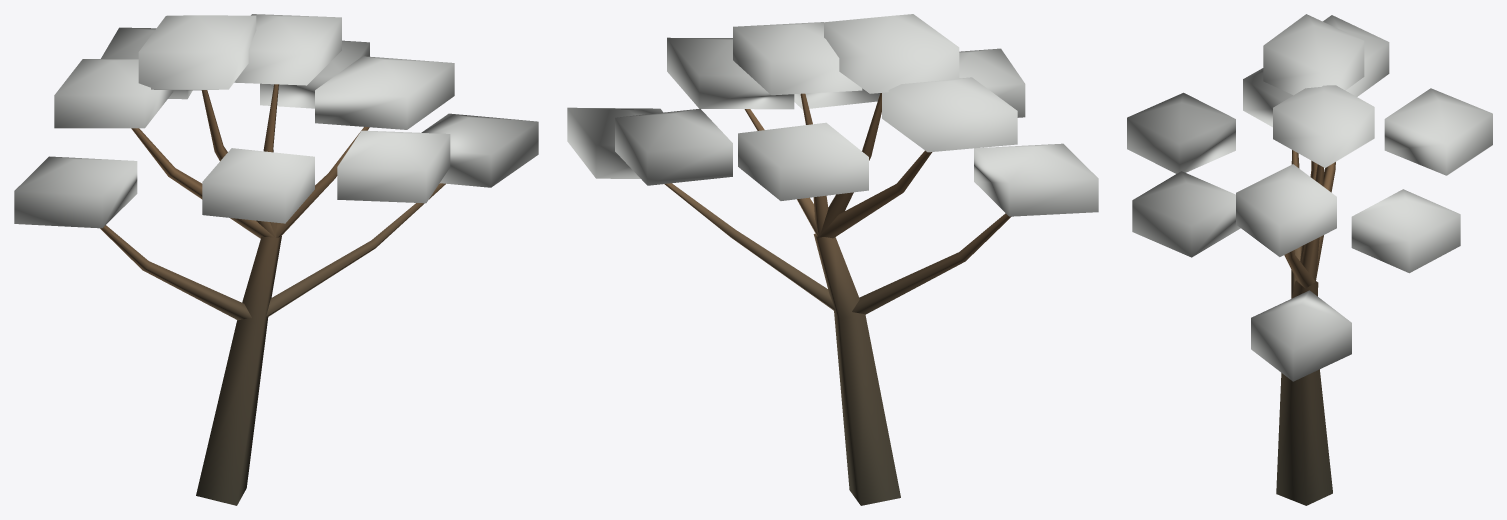
The picture shows the model from 3 angles, left to right: view 1: azimuth 30°, elevation 25°; view 2: azimuth 150°, elevation 25°; view 3: azimuth 270°, elevation 25°; orthographic projection. The views are drawn at different scales.
Parts seen in each view (by area): view 1: crown, trunk; view 2: crown, trunk; view 3: crown, trunk.
Part boxes in pixels (left/top/right/bottom): crown: left=14, top=14, right=538, bottom=228; trunk: left=100, top=84, right=445, bottom=505; crown: left=567, top=14, right=1098, bottom=216; trunk: left=664, top=93, right=1011, bottom=505; crown: left=1127, top=14, right=1492, bottom=381; trunk: left=1276, top=150, right=1335, bottom=505.
Size of the model in its own units: 11.57 by 10.15 by 7.33.
